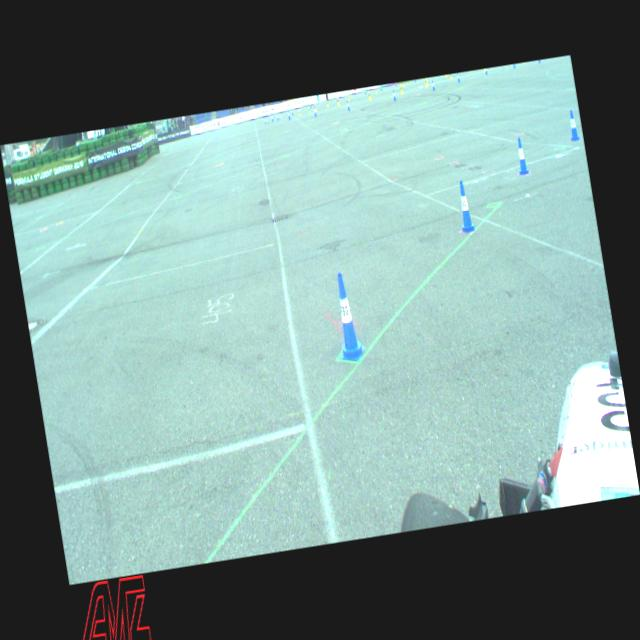blue_cone: (328, 271, 366, 362), (454, 180, 476, 233), (514, 137, 530, 175), (566, 110, 580, 141), (346, 100, 351, 111), (456, 73, 461, 82), (392, 89, 396, 100), (313, 105, 317, 116), (431, 80, 435, 90), (270, 113, 274, 122), (263, 116, 266, 125), (484, 68, 488, 74), (266, 116, 269, 123), (291, 108, 294, 115), (276, 113, 279, 120), (288, 110, 290, 120)
yellow_cone: (336, 97, 341, 106), (368, 91, 371, 100), (400, 84, 403, 93), (425, 77, 428, 86)
